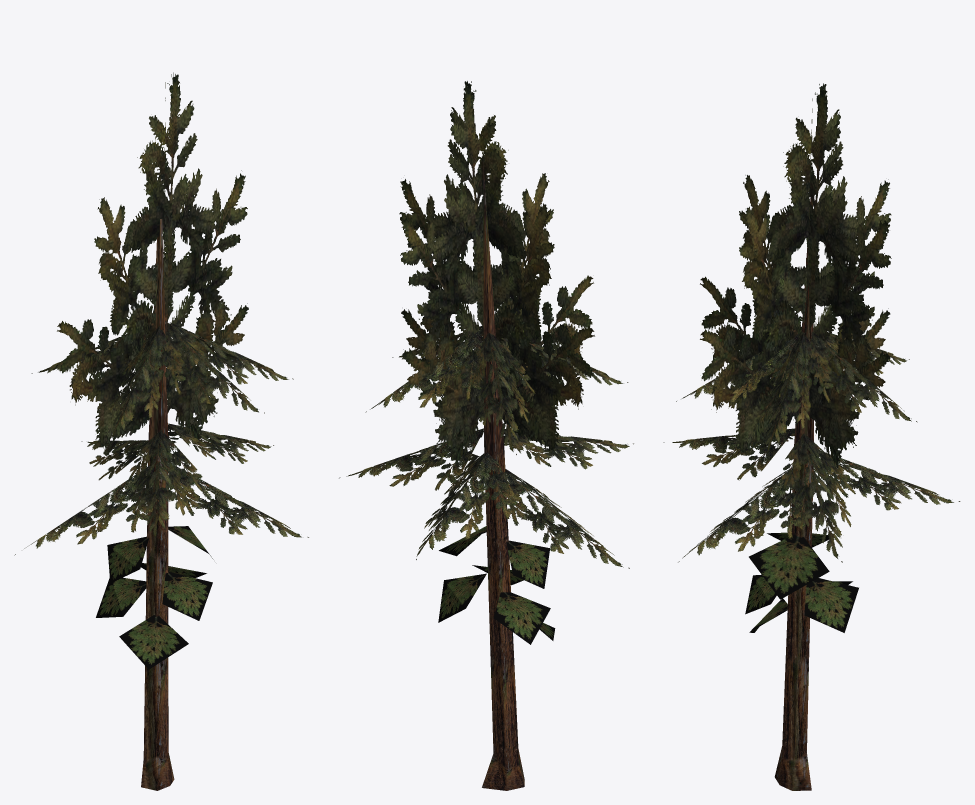
File: veg_largefurs06.obj
The picture shows the model from 3 angles, left to right: view 1: azimuth 30°, elevation 25°; view 2: azimuth 150°, elevation 25°; view 3: azimuth 270°, elevation 25°; orthographic projection.
Parts seen in each view (by area): view 1: veg_largefurs06; view 2: veg_largefurs06; view 3: veg_largefurs06.
Boxes of the visible parts, x1,y1,x2,y2 form: veg_largefurs06: (14, 72, 308, 790); veg_largefurs06: (339, 81, 633, 790); veg_largefurs06: (663, 83, 960, 790).
Size of the model in its own units: 32.92 by 80.55 by 30.3.
Materials: 3 (3 with a texture image).
